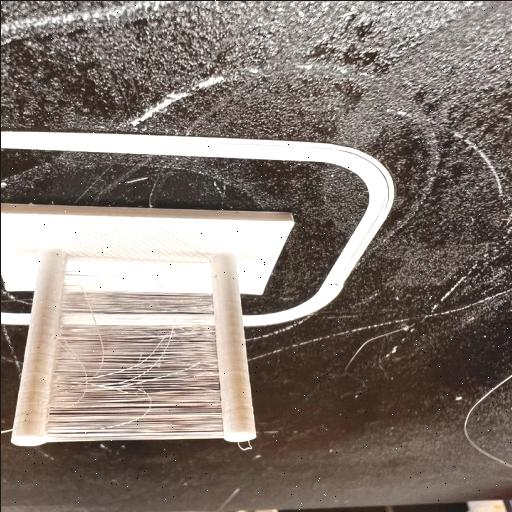stringing: (50, 290, 231, 438)
